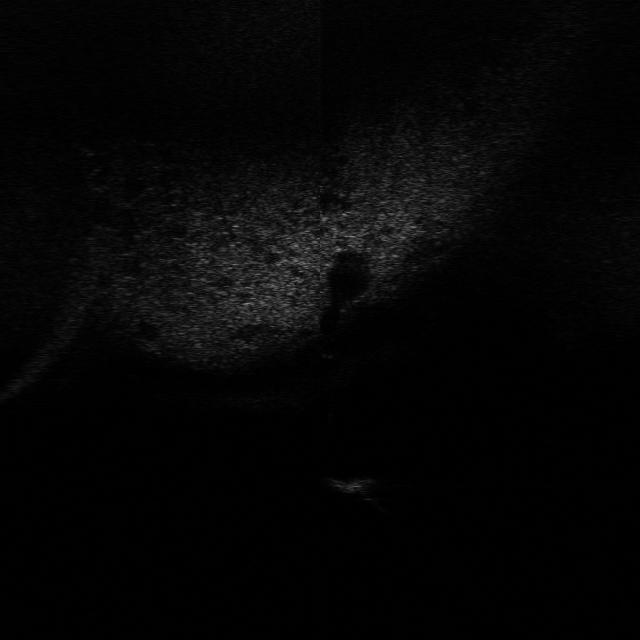ball: (313, 332, 346, 358)
cube: (320, 471, 378, 498)
